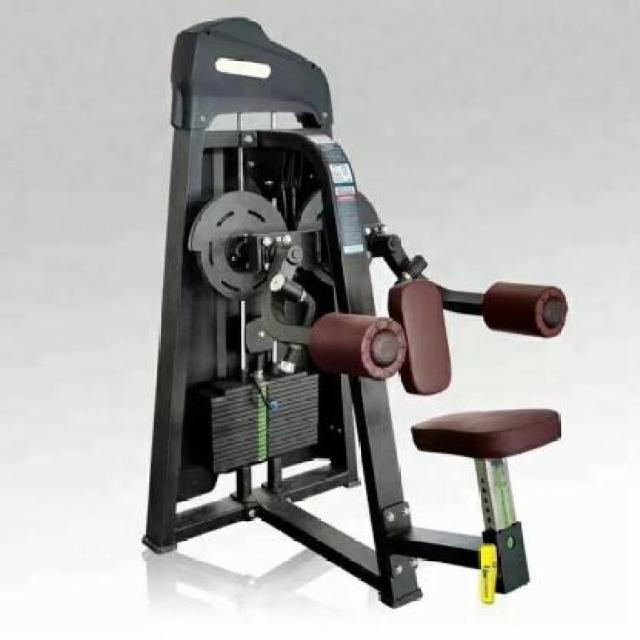lateral raises machine: (140, 13, 569, 604)
